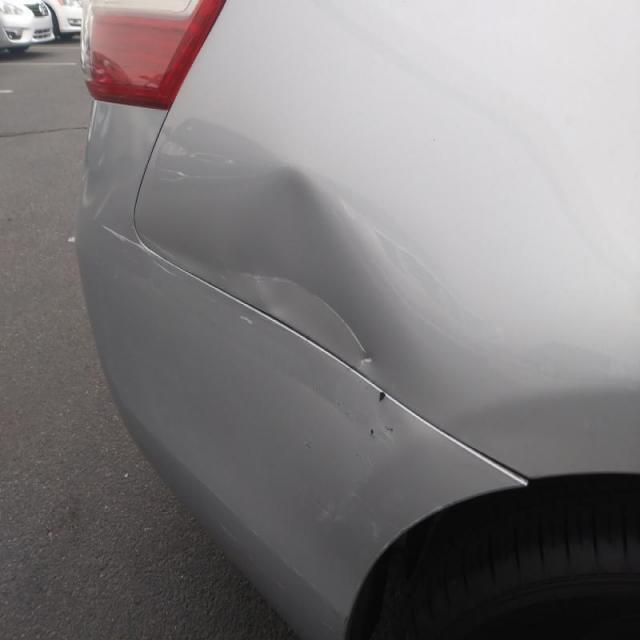dent: (135, 162, 398, 360)
